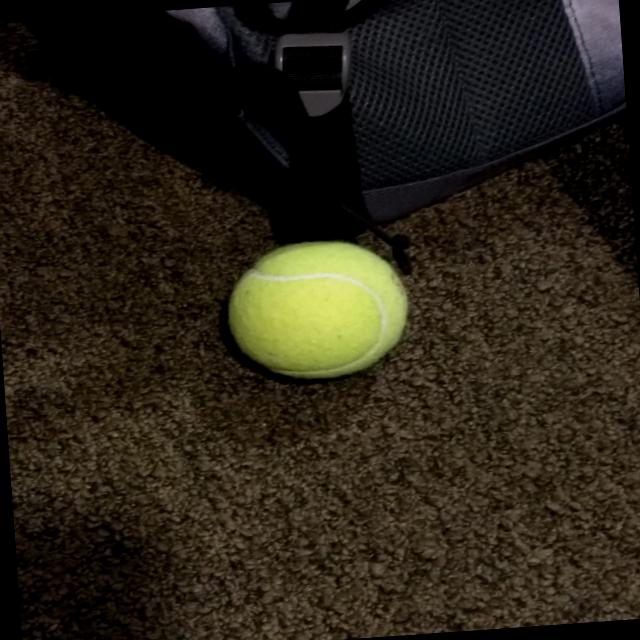tennis-ball: (223, 234, 412, 384)
